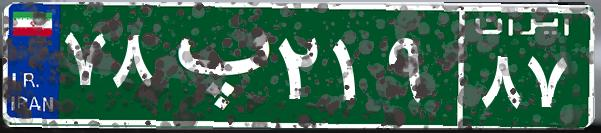1: (330, 28, 385, 110)
2: (273, 28, 330, 110)
7: (57, 26, 110, 107), (525, 38, 570, 115)
8: (475, 38, 525, 113), (110, 28, 158, 105)
9: (385, 28, 445, 110)
پ: (158, 15, 273, 115)
